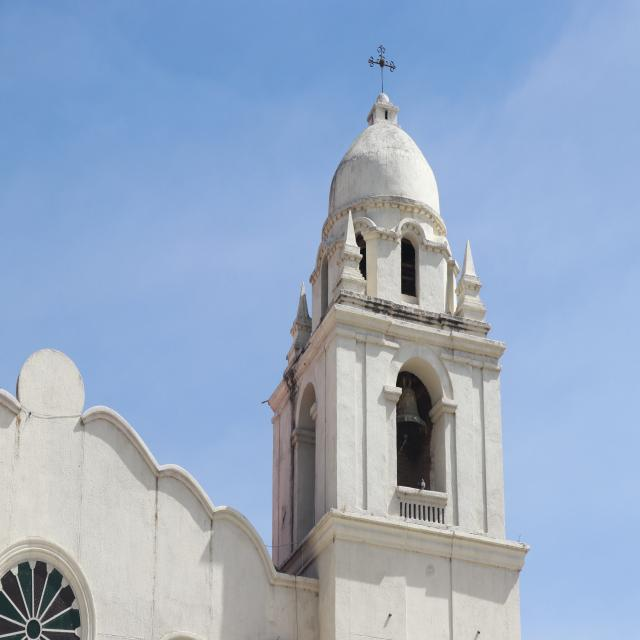CAMPANARIO: (228, 288, 554, 582)
CUPULA: (255, 81, 498, 309)
